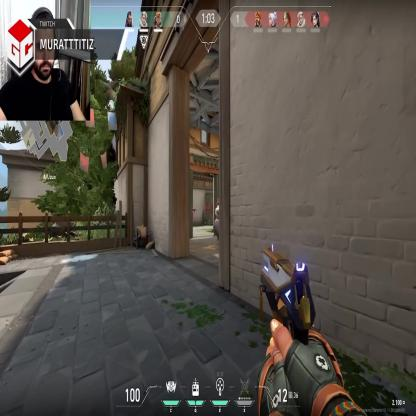enemy: (213, 195, 222, 244), (186, 199, 196, 237)
enemy_head: (216, 199, 219, 207)
